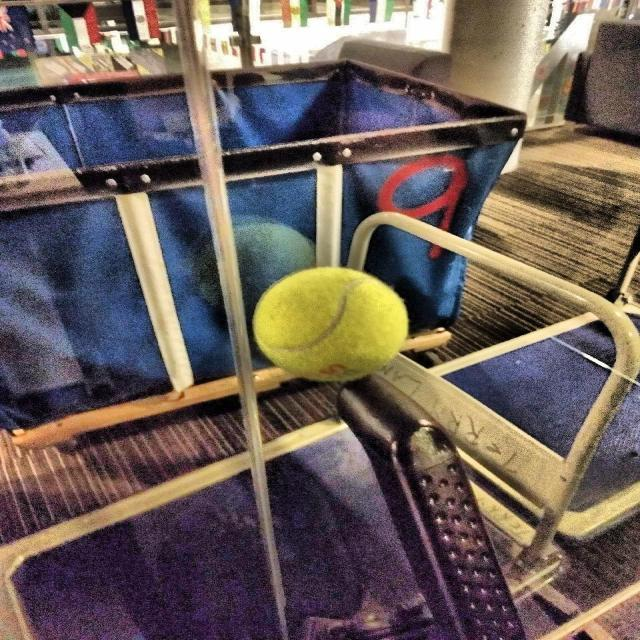tennis-ball: (255, 265, 405, 381)
